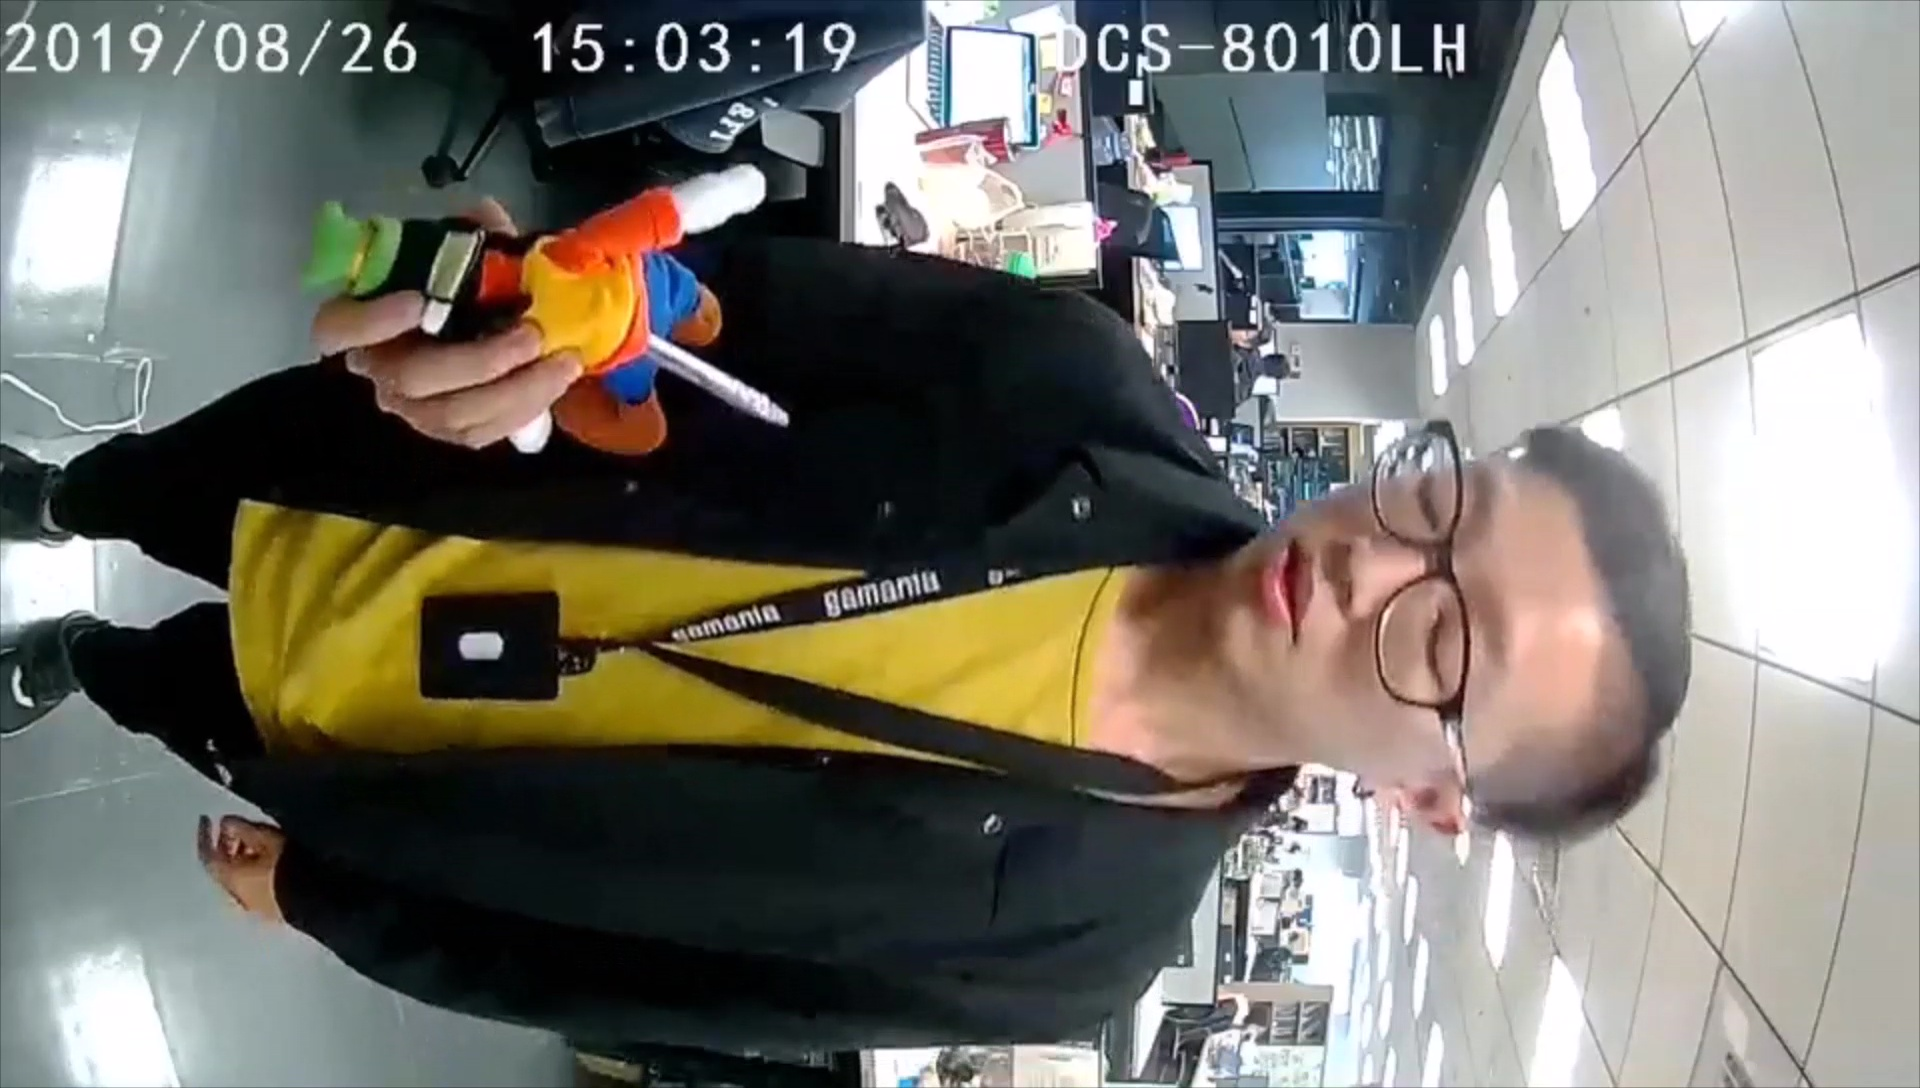goofy: (298, 166, 777, 454)
